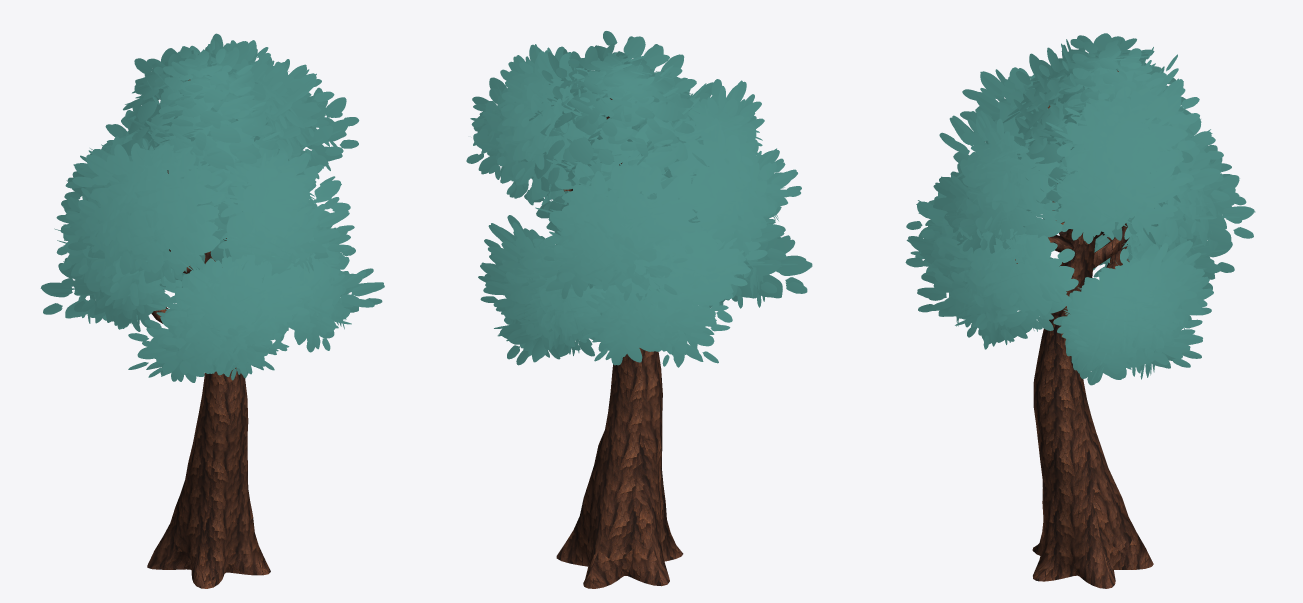
The model's file is gtree_common_1.glb.
3 views of the same model, side by side, from view 1: azimuth 30°, elevation 25°; view 2: azimuth 150°, elevation 25°; view 3: azimuth 270°, elevation 25° (orthographic). The views are drawn at different scales.
Parts seen in each view (by area): view 1: model; view 2: model; view 3: model.
Boxes of the visible parts, x1=… form: model: x1=40, y1=33, x2=384, y2=588; model: x1=466, y1=31, x2=812, y2=588; model: x1=905, y1=33, x2=1255, y2=588.
Size of the model in its own units: 4.65 by 7.02 by 4.94.
Materials: 2 (2 with a texture image).
